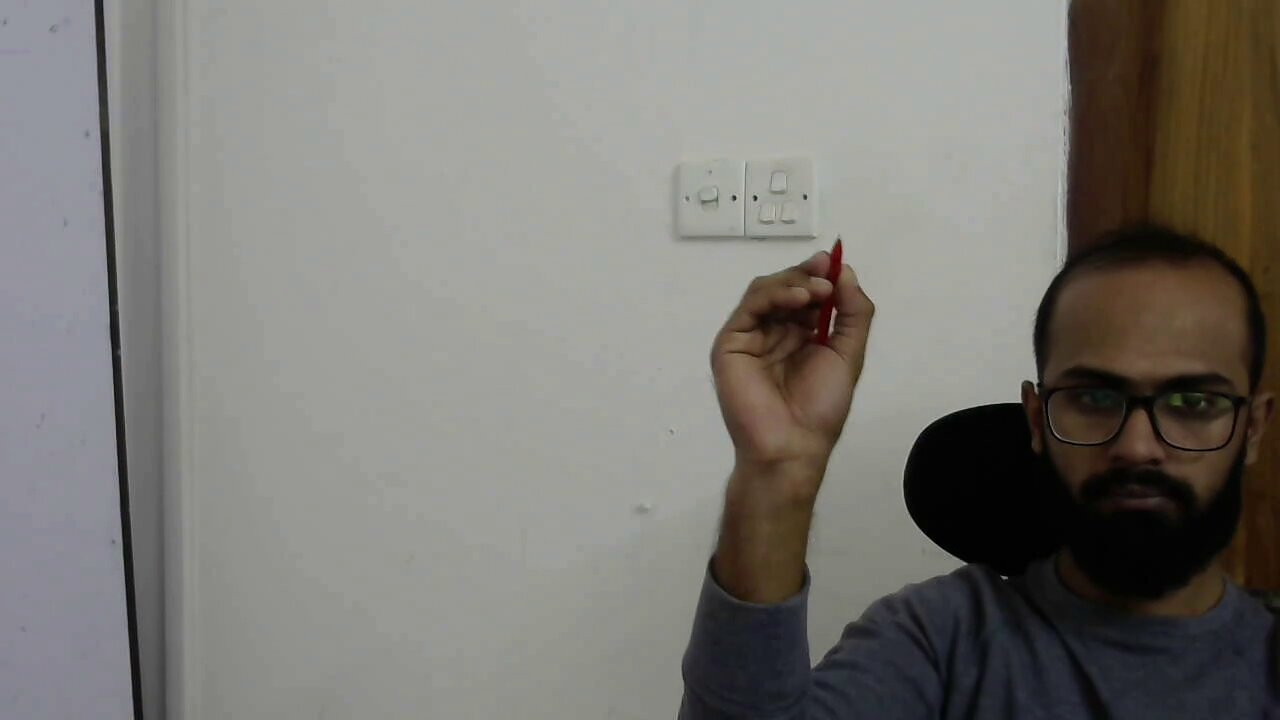pointer: (733, 239, 881, 406)
